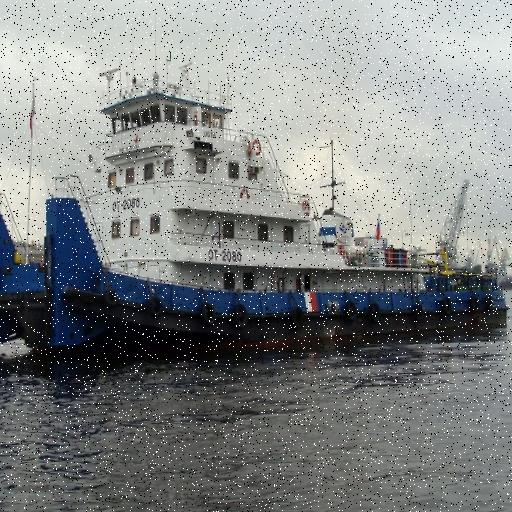tugboat: (1, 59, 512, 377)
